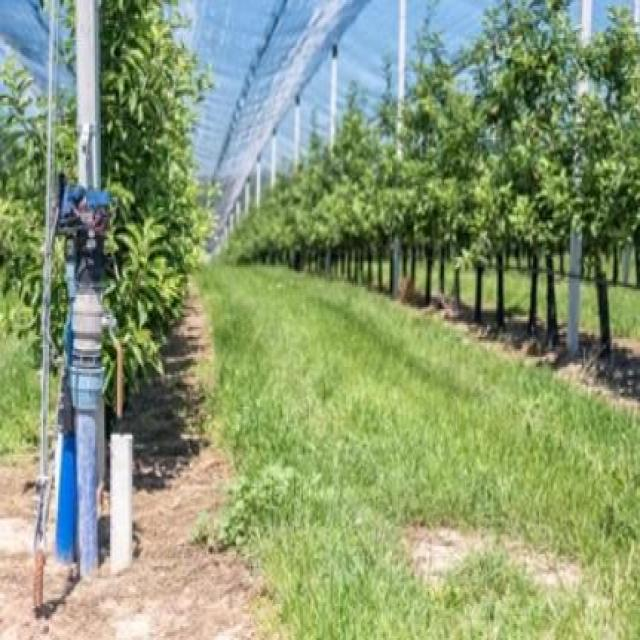row: (143, 257, 640, 600)
